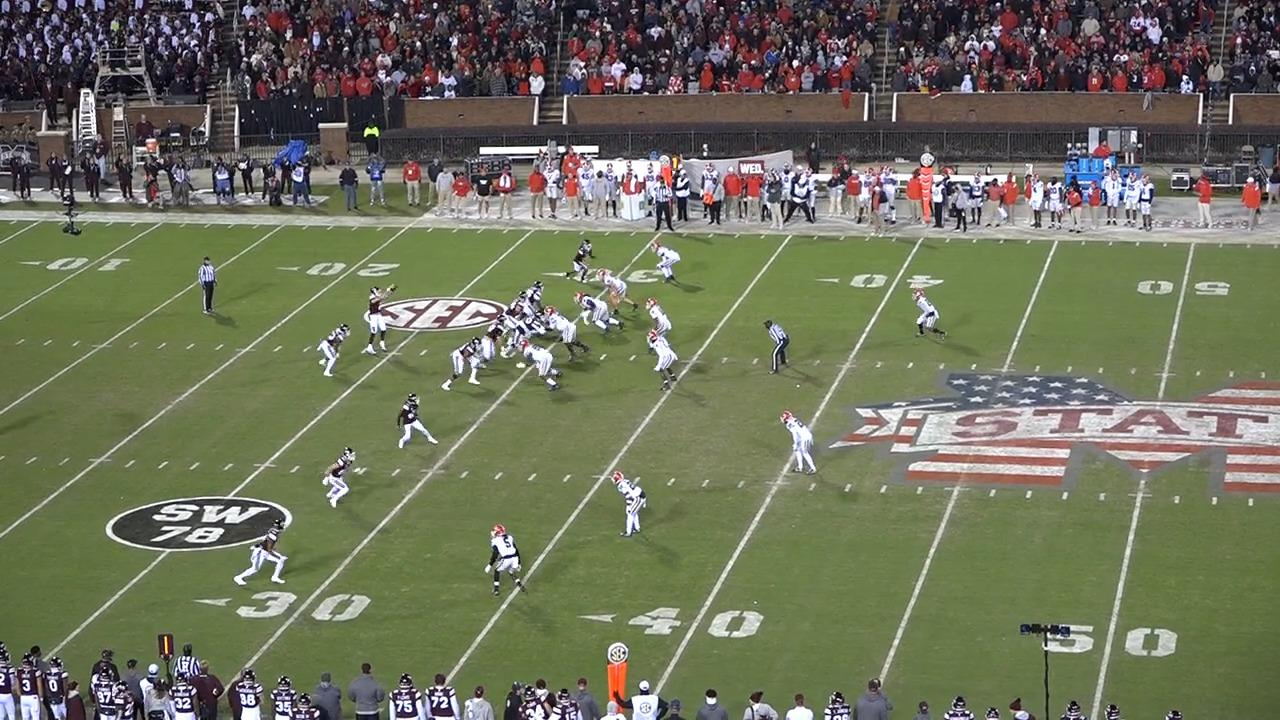player: (236, 518, 293, 589), (481, 520, 524, 596), (615, 467, 655, 538), (325, 448, 368, 513), (393, 393, 438, 455), (779, 412, 818, 481), (540, 307, 589, 361), (446, 339, 491, 395), (520, 341, 567, 392), (473, 317, 510, 375), (363, 286, 392, 359), (500, 310, 544, 358), (571, 291, 620, 334), (649, 328, 680, 394), (601, 268, 643, 314), (316, 323, 349, 379), (912, 288, 947, 339), (565, 239, 598, 287), (644, 296, 672, 349), (653, 240, 682, 286), (500, 290, 528, 329), (519, 280, 544, 313), (374, 282, 393, 325)
ref: (764, 316, 791, 375), (194, 255, 220, 315), (652, 178, 677, 232), (171, 643, 199, 687)
